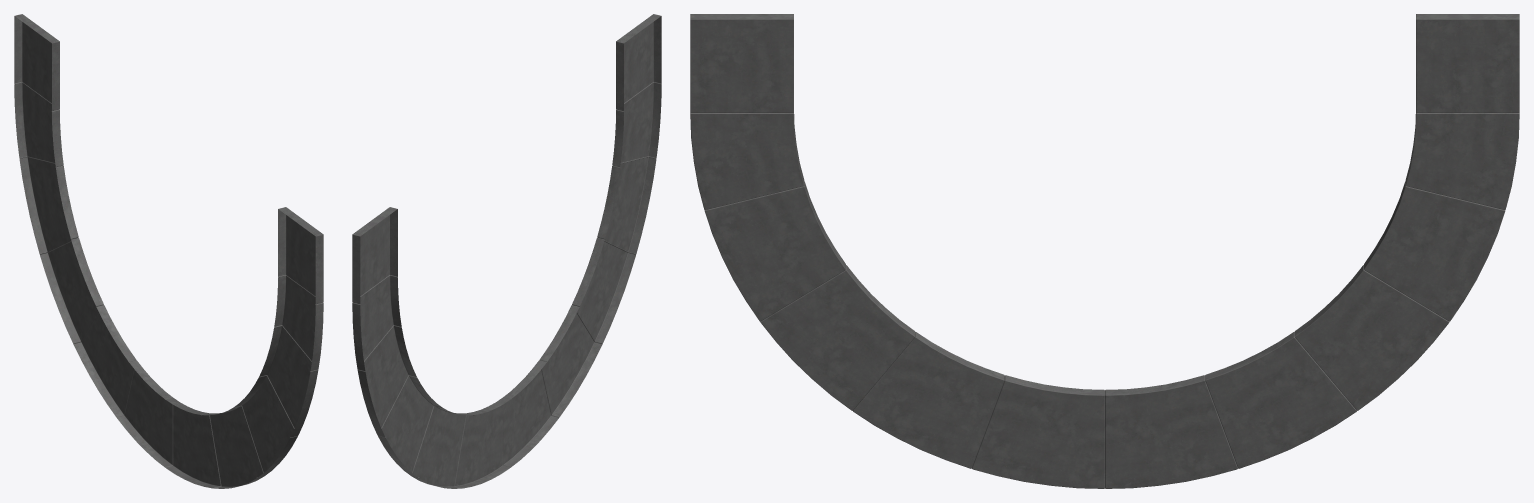
The model's file is cP_Pathway04_02.dae.
The picture shows the model from 3 angles, left to right: view 1: azimuth 30°, elevation 25°; view 2: azimuth 150°, elevation 25°; view 3: azimuth 270°, elevation 25°; orthographic projection. The views are drawn at different scales.
Parts seen in each view (by area): view 1: cP_Pathway04_02.001; view 2: cP_Pathway04_02.001; view 3: cP_Pathway04_02.001.
Part boxes in pixels (bbox=[...]): cP_Pathway04_02.001: bbox=[14, 14, 323, 488]; cP_Pathway04_02.001: bbox=[352, 14, 661, 488]; cP_Pathway04_02.001: bbox=[690, 14, 1519, 488].
Size of the model in its own units: 0.5318 by 32 by 20.
